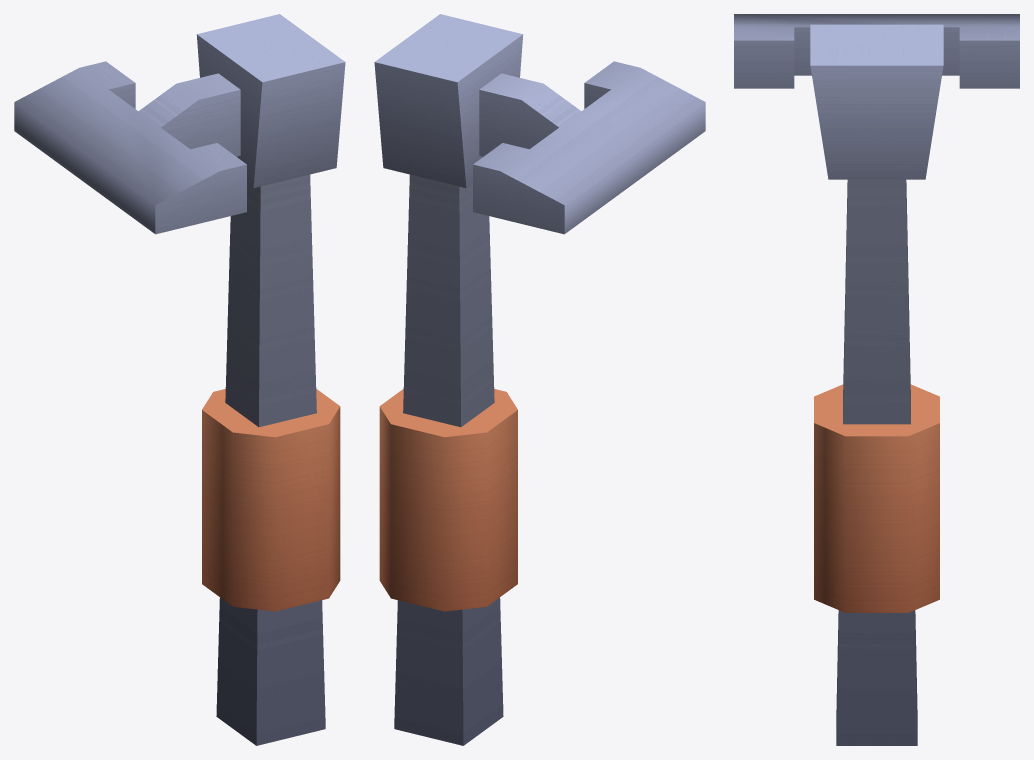
File: tool-hoe-upgraded.glb
3 renders of one model, left to right at view 1: azimuth 30°, elevation 25°; view 2: azimuth 150°, elevation 25°; view 3: azimuth 270°, elevation 25°, orthographic.
Visible parts, largest first — view 1: tool-hoe-upgraded; view 2: tool-hoe-upgraded; view 3: tool-hoe-upgraded.
Boxes of the visible parts, x1,y1,x2,y2 form: tool-hoe-upgraded: (14, 14, 345, 745); tool-hoe-upgraded: (374, 14, 705, 745); tool-hoe-upgraded: (734, 14, 1019, 745).
Bounding box in the file's own units: 0.0893 × 0.24 × 0.0909.
Materials: 1 (1 with a texture image).
